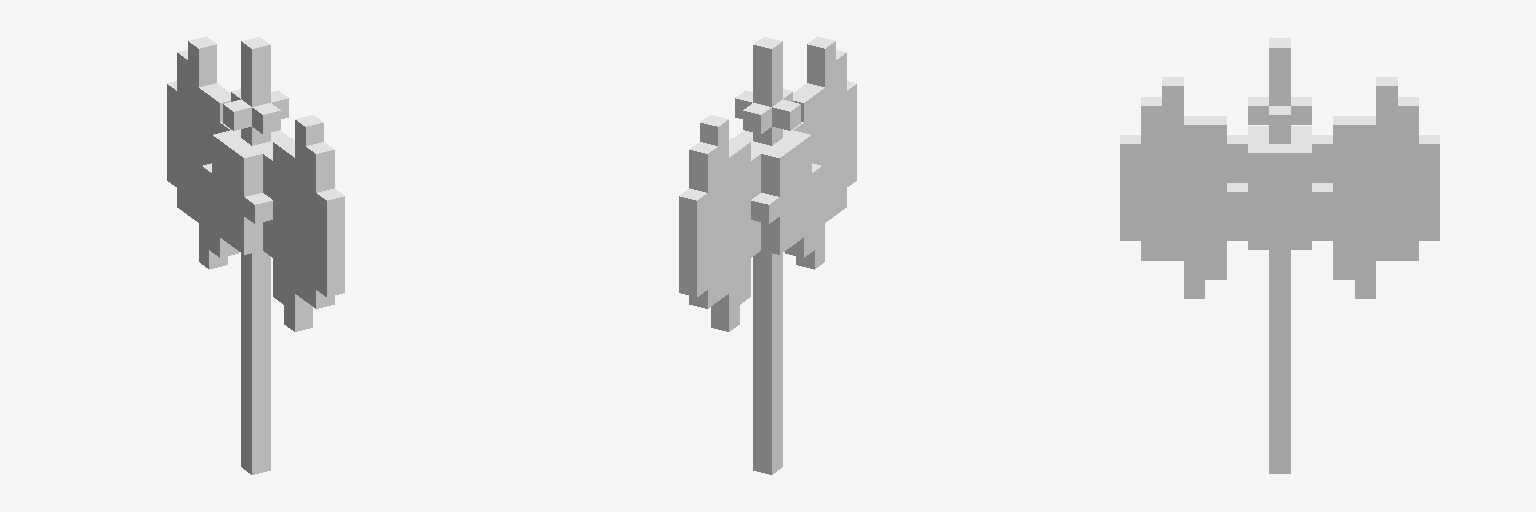
The model's file is axeBattle.vox.obj.
3 views of the same model, side by side, from view 1: azimuth 30°, elevation 25°; view 2: azimuth 150°, elevation 25°; view 3: azimuth 270°, elevation 25° (orthographic).
Visible parts, largest first — view 1: object 1; view 2: object 1; view 3: object 1.
Part boxes in pixels (x1,y1,x2,y2): object 1: (167, 36, 344, 474); object 1: (679, 36, 856, 474); object 1: (1120, 38, 1439, 473).
Bounding box in the file's own units: 0.3 × 2.2 × 1.5.